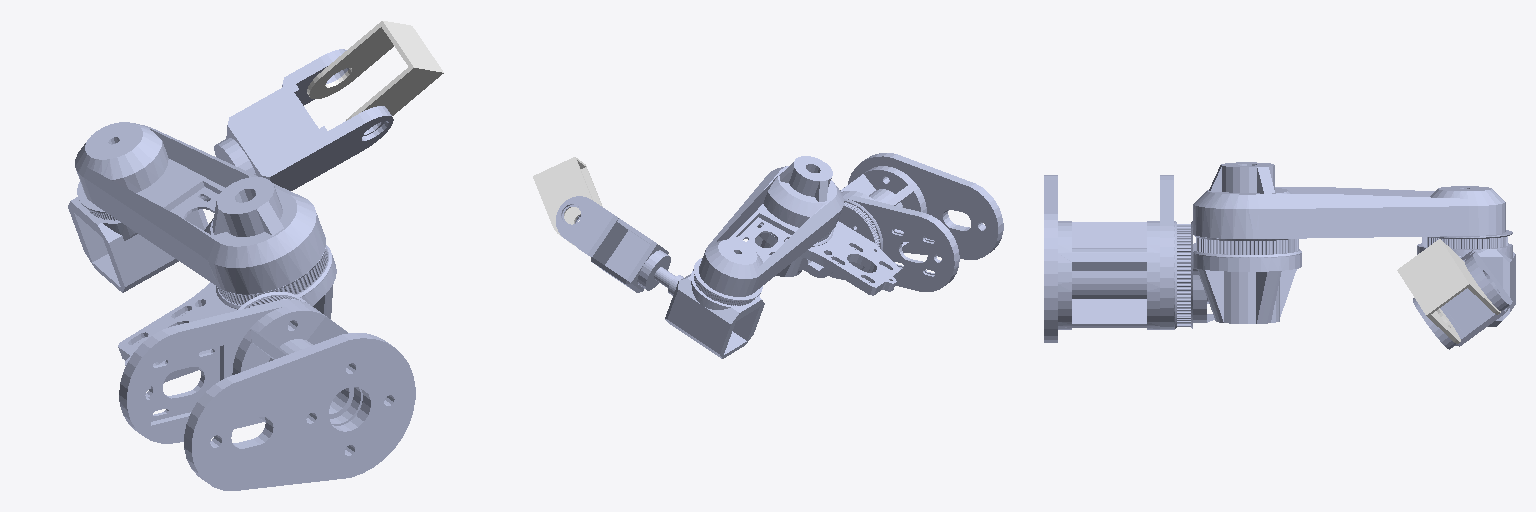
URDF robot description (机械臂urtf文件):
<?xml version="1.0" encoding="utf-8"?>
<!-- This URDF was automatically created by SolidWorks to URDF Exporter! Originally created by [author] ([email redacted]) 
     Commit Version: 1.6.0-4-g7f85cfe  Build Version: 1.6.7995.38578
     For more information, please see http://wiki.ros.org/sw_urdf_exporter -->
<robot
  name="机械臂urtf文件">
  <link
    name="base_link">
    <inertial>
      <origin
        xyz="-0.036917 -0.00036325 0.04838"
        rpy="0 0 0" />
      <mass
        value="0.36716" />
      <inertia
        ixx="0.0003013"
        ixy="-7.7045E-08"
        ixz="-7.1751E-07"
        iyy="0.00057269"
        iyz="-2.5073E-10"
        izz="0.00065607" />
    </inertial>
    <visual>
      <origin
        xyz="0 0 0"
        rpy="0 0 0" />
      <geometry>
        <mesh
          filename="package://机械臂urtf文件/meshes/base_link.STL" />
      </geometry>
      <material
        name="">
        <color
          rgba="0.79216 0.81961 0.93333 1" />
      </material>
    </visual>
    <collision>
      <origin
        xyz="0 0 0"
        rpy="0 0 0" />
      <geometry>
        <mesh
          filename="package://机械臂urtf文件/meshes/base_link.STL" />
      </geometry>
    </collision>
  </link>
  <link
    name="link1">
    <inertial>
      <origin
        xyz="0.00543280532846522 0.0106019797335686 -0.0379773804901715"
        rpy="0 0 0" />
      <mass
        value="0.260505535411892" />
      <inertia
        ixx="0.000261369018131478"
        ixy="-9.25066866481221E-05"
        ixz="8.99302555041308E-06"
        iyy="0.000213681466672324"
        iyz="2.89891648161378E-05"
        izz="0.000312627907076488" />
    </inertial>
    <visual>
      <origin
        xyz="0 0 0"
        rpy="0 0 0" />
      <geometry>
        <mesh
          filename="package://机械臂urtf文件/meshes/link1.STL" />
      </geometry>
      <material
        name="">
        <color
          rgba="0.792156862745098 0.819607843137255 0.933333333333333 1" />
      </material>
    </visual>
    <collision>
      <origin
        xyz="0 0 0"
        rpy="0 0 0" />
      <geometry>
        <mesh
          filename="package://机械臂urtf文件/meshes/link1.STL" />
      </geometry>
    </collision>
  </link>
  <joint
    name="joint1"
    type="revolute">
    <origin
      xyz="-0.017275 0.0025 -0.00036912"
      rpy="1.5708 0.67306 0" />
    <parent
      link="base_link" />
    <child
      link="link1" />
    <axis
      xyz="0 0 1" />
    <limit
      lower="-3.14"
      upper="3.14"
      effort="100"
      velocity="1" />
  </joint>
  <link
    name="link2">
    <inertial>
      <origin
        xyz="0.0271988351019737 -0.0423817535134543 -0.0187082636892856"
        rpy="0 0 0" />
      <mass
        value="0.382606017562664" />
      <inertia
        ixx="0.00124940765774743"
        ixy="0.000672824028742632"
        ixz="-2.63404156232444E-05"
        iyy="0.000632777608911537"
        iyz="4.10400762198352E-05"
        izz="0.00179969483689529" />
    </inertial>
    <visual>
      <origin
        xyz="0 0 0"
        rpy="0 0 0" />
      <geometry>
        <mesh
          filename="package://机械臂urtf文件/meshes/link2.STL" />
      </geometry>
      <material
        name="">
        <color
          rgba="0.792156862745098 0.819607843137255 0.933333333333333 1" />
      </material>
    </visual>
    <collision>
      <origin
        xyz="0 0 0"
        rpy="0 0 0" />
      <geometry>
        <mesh
          filename="package://机械臂urtf文件/meshes/link2.STL" />
      </geometry>
    </collision>
  </link>
  <joint
    name="joint2"
    type="revolute">
    <origin
      xyz="-0.0036085 0.046448 -0.054"
      rpy="1.5708 0.66354 1.0131" />
    <parent
      link="link1" />
    <child
      link="link2" />
    <axis
      xyz="0 0 -1" />
    <limit
      lower="-3.14"
      upper="3.14"
      effort="100"
      velocity="1" />
  </joint>
  <link
    name="link3">
    <inertial>
      <origin
        xyz="-0.0225317846811484 -0.000409675074721949 0.00376894415780007"
        rpy="0 0 0" />
      <mass
        value="0.148555276850685" />
      <inertia
        ixx="0.000119969400028678"
        ixy="-5.80926487120232E-07"
        ixz="3.83827450053871E-06"
        iyy="0.000101456664035352"
        iyz="-7.7210680906673E-08"
        izz="0.000100615979606371" />
    </inertial>
    <visual>
      <origin
        xyz="0 0 0"
        rpy="0 0 0" />
      <geometry>
        <mesh
          filename="package://机械臂urtf文件/meshes/link3.STL" />
      </geometry>
      <material
        name="">
        <color
          rgba="0.792156862745098 0.819607843137255 0.933333333333333 1" />
      </material>
    </visual>
    <collision>
      <origin
        xyz="0 0 0"
        rpy="0 0 0" />
      <geometry>
        <mesh
          filename="package://机械臂urtf文件/meshes/link3.STL" />
      </geometry>
    </collision>
  </link>
  <joint
    name="joint3"
    type="revolute">
    <origin
      xyz="0.086419 -0.13465 0"
      rpy="0.060117 1.5708 0" />
    <parent
      link="link2" />
    <child
      link="link3" />
    <axis
      xyz="-1 0 0" />
    <limit
      lower="-3.14"
      upper="3.14"
      effort="100"
      velocity="1" />
  </joint>
  <link
    name="link4">
    <inertial>
      <origin
        xyz="0.00198095392174447 0.000625065115480522 0.0885076933069707"
        rpy="0 0 0" />
      <mass
        value="0.0991128739481142" />
      <inertia
        ixx="0.000101727596688212"
        ixy="-4.59310071480919E-07"
        ixz="6.30031751147386E-06"
        iyy="0.000111838941038161"
        iyz="6.92970981708923E-07"
        izz="5.25753483509745E-05" />
    </inertial>
    <visual>
      <origin
        xyz="0 0 0"
        rpy="0 0 0" />
      <geometry>
        <mesh
          filename="package://机械臂urtf文件/meshes/link4.STL" />
      </geometry>
      <material
        name="">
        <color
          rgba="0.792156862745098 0.819607843137255 0.933333333333333 1" />
      </material>
    </visual>
    <collision>
      <origin
        xyz="0 0 0"
        rpy="0 0 0" />
      <geometry>
        <mesh
          filename="package://机械臂urtf文件/meshes/link4.STL" />
      </geometry>
    </collision>
  </link>
  <joint
    name="joint4"
    type="revolute">
    <origin
      xyz="-0.031744 0.011563 0.018634"
      rpy="0.53673 0.60447 2.3791" />
    <parent
      link="link3" />
    <child
      link="link4" />
    <axis
      xyz="0 0 -1" />
    <limit
      lower="-3.14"
      upper="3.14"
      effort="100"
      velocity="1" />
  </joint>
  <link
    name="link5">
    <inertial>
      <origin
        xyz="-0.0269274195204991 1.30451205393456E-15 -0.00274999999999892"
        rpy="0 0 0" />
      <mass
        value="0.022576161236906" />
      <inertia
        ixx="1.04980491779765E-05"
        ixy="-8.25857123572943E-21"
        ixz="2.96461531539005E-21"
        iyy="1.86504293698969E-05"
        iyz="8.470329472543E-21"
        izz="1.62978056520841E-05" />
    </inertial>
    <visual>
      <origin
        xyz="0 0 0"
        rpy="0 0 0" />
      <geometry>
        <mesh
          filename="package://机械臂urtf文件/meshes/link5.STL" />
      </geometry>
      <material
        name="">
        <color
          rgba="1 1 1 1" />
      </material>
    </visual>
    <collision>
      <origin
        xyz="0 0 0"
        rpy="0 0 0" />
      <geometry>
        <mesh
          filename="package://机械臂urtf文件/meshes/link5.STL" />
      </geometry>
    </collision>
  </link>
  <joint
    name="joint5"
    type="revolute">
    <origin
      xyz="0 0 0.14412"
      rpy="1.5708 1.0002 1.5708" />
    <parent
      link="link4" />
    <child
      link="link5" />
    <axis
      xyz="1.2419E-05 1.9349E-05 -1" />
    <limit
      lower="-3.14"
      upper="3.14"
      effort="100"
      velocity="1" />
  </joint>
</robot>

--- Facts derived from the render (not from the file) ---
3 views of the same robot in one strip: view 1: azimuth 30°, elevation 25°; view 2: azimuth 150°, elevation 25°; view 3: azimuth 270°, elevation 25° (orthographic).
Model 机械臂urtf文件 with 6 links and 5 joints (5 revolute), rooted at base_link, posed all joints at 0.
Visible links, largest first — view 1: base_link, link2, link4, link5, link3, link1; view 2: base_link, link2, link4, link1, link3, link5; view 3: link2, base_link, link1, link5, link4, link3.
Boxes of the visible links, bbox=[...] form: base_link: bbox=[119, 299, 415, 490]; link2: bbox=[75, 122, 331, 309]; link4: bbox=[200, 49, 393, 201]; link5: bbox=[307, 21, 443, 120]; link3: bbox=[68, 182, 208, 292]; link1: bbox=[118, 255, 336, 382]; base_link: bbox=[840, 153, 1003, 291]; link2: bbox=[699, 156, 843, 296]; link4: bbox=[556, 196, 683, 295]; link1: bbox=[755, 199, 900, 295]; link3: bbox=[665, 258, 764, 358]; link5: bbox=[533, 157, 602, 245]; link2: bbox=[1193, 162, 1505, 257]; base_link: bbox=[1044, 175, 1173, 342]; link1: bbox=[1174, 221, 1301, 329]; link5: bbox=[1397, 239, 1500, 343]; link4: bbox=[1413, 250, 1512, 349]; link3: bbox=[1417, 230, 1515, 326].
Size in the robot's own frame: 0.3531 by 0.3454 by 0.1694 metres.
6 mesh visuals loaded from 6 distinct referenced files (6 binary STL).
